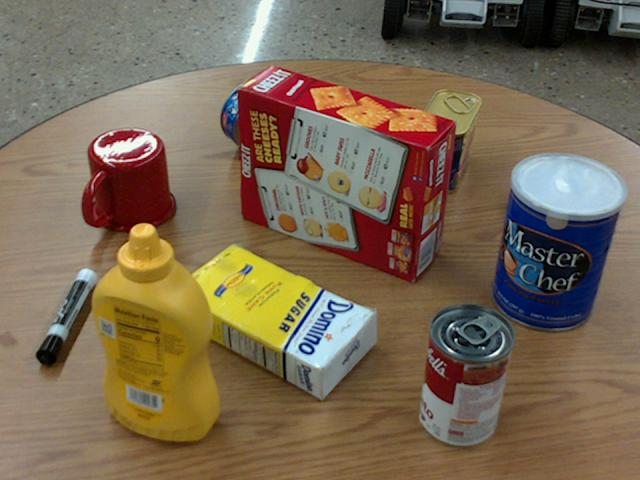cracker_box: (237, 67, 453, 281)
gelatin_box: (514, 162, 603, 235)
large_marker: (35, 268, 95, 362)
master_chef_can: (492, 152, 624, 330)
mug: (82, 128, 175, 231)
mustard_bottle: (90, 222, 217, 439)
potted_meat_can: (416, 89, 482, 192)
sugar_box: (170, 243, 376, 399)
tomato_soup_can: (419, 304, 514, 447)
tuna_fish_can: (219, 79, 292, 153)
